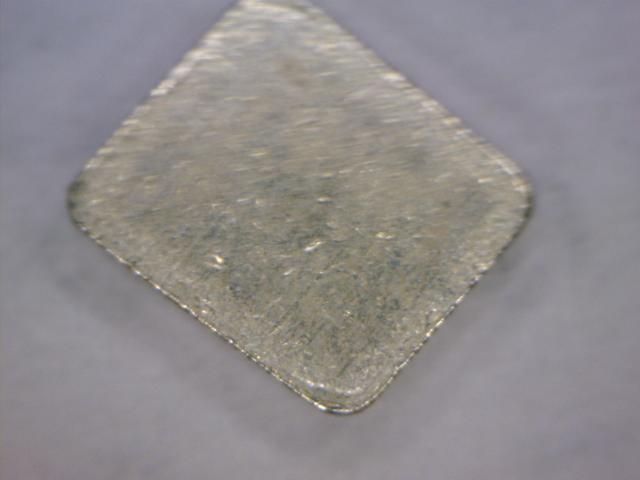ok: (60, 4, 549, 422)
